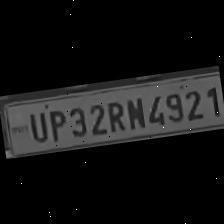1: (202, 82, 224, 118)
2: (180, 85, 206, 122), (84, 100, 107, 136)
3: (62, 103, 88, 139)
4: (142, 91, 166, 127)
9: (160, 88, 182, 123)
N: (122, 93, 146, 131)
P: (43, 105, 67, 142)
R: (101, 97, 126, 133)
U: (22, 107, 48, 143)
